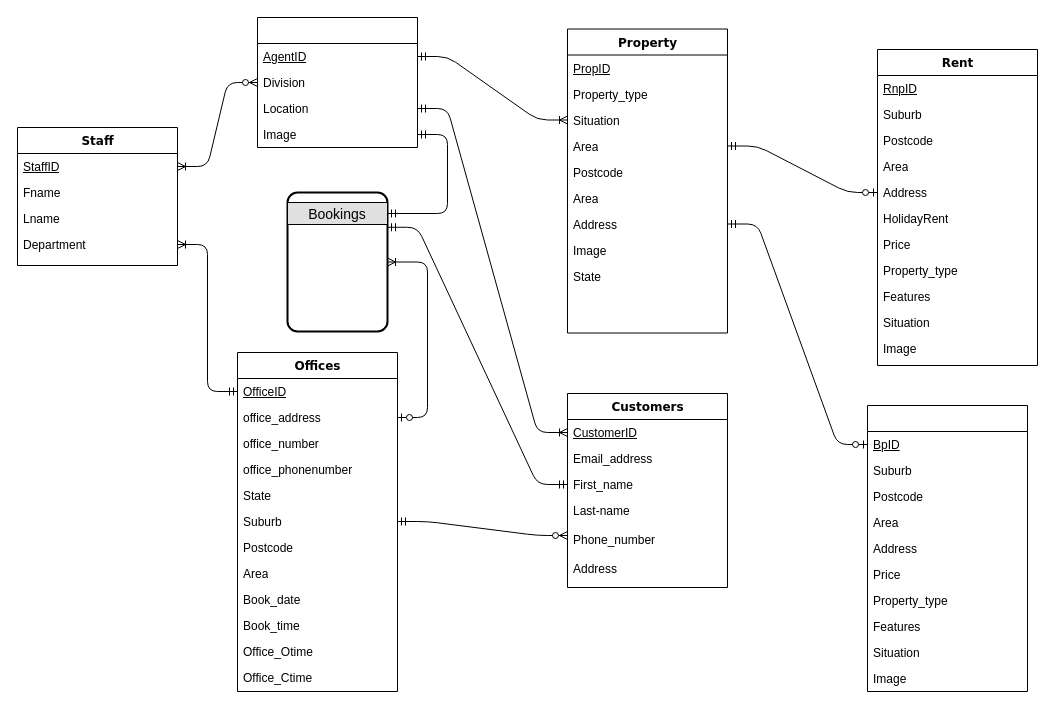
Some shapes in this 1055 by 712 pixel diagram are drawn without their labels. The shapes that lost their labels are listed below. From the top down, each one's box as (x1, y1, x2, y2) in pixels, then its label:
(256, 16, 418, 148): Agents
(286, 191, 388, 332): CustomerID OfficeID AgentID Book_date Book_time
(866, 404, 1028, 692): Buy
